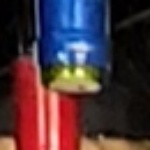bottle: (20, 21, 136, 116)
